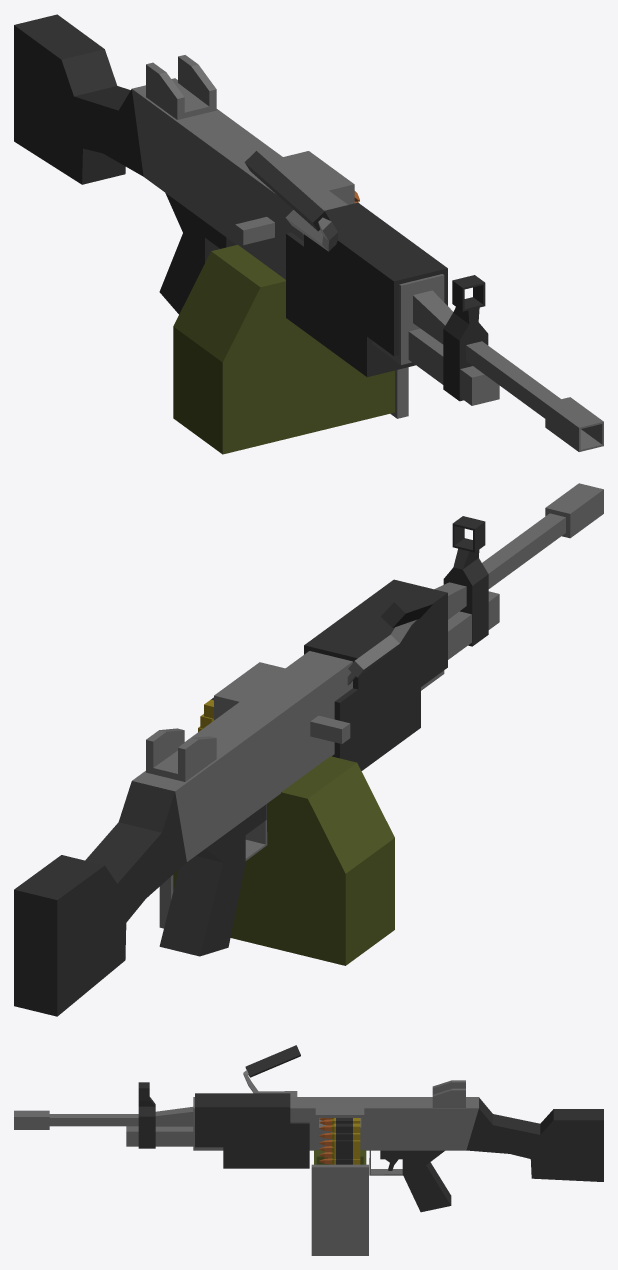
File: M249_LMG.fbx
3 renders of one model, top to bottom at view 1: azimuth 30°, elevation 25°; view 2: azimuth 150°, elevation 25°; view 3: azimuth 270°, elevation 25°, orthographic. The views are drawn at different scales.
Parts seen in each view (by area): view 1: M249_LMG, M249_LMG_Magazine; view 2: M249_LMG, M249_LMG_Magazine; view 3: M249_LMG, M249_LMG_Magazine.
Boxes of the visible parts, box(x1,y1,x2,y2) form: M249_LMG: box(14, 14, 603, 451); M249_LMG_Magazine: box(173, 191, 408, 454); M249_LMG: box(14, 483, 603, 1016); M249_LMG_Magazine: box(159, 697, 394, 965); M249_LMG: box(14, 1045, 603, 1212); M249_LMG_Magazine: box(311, 1118, 368, 1255).
Size of the model in its own units: 19.64 by 32.34 by 103.
